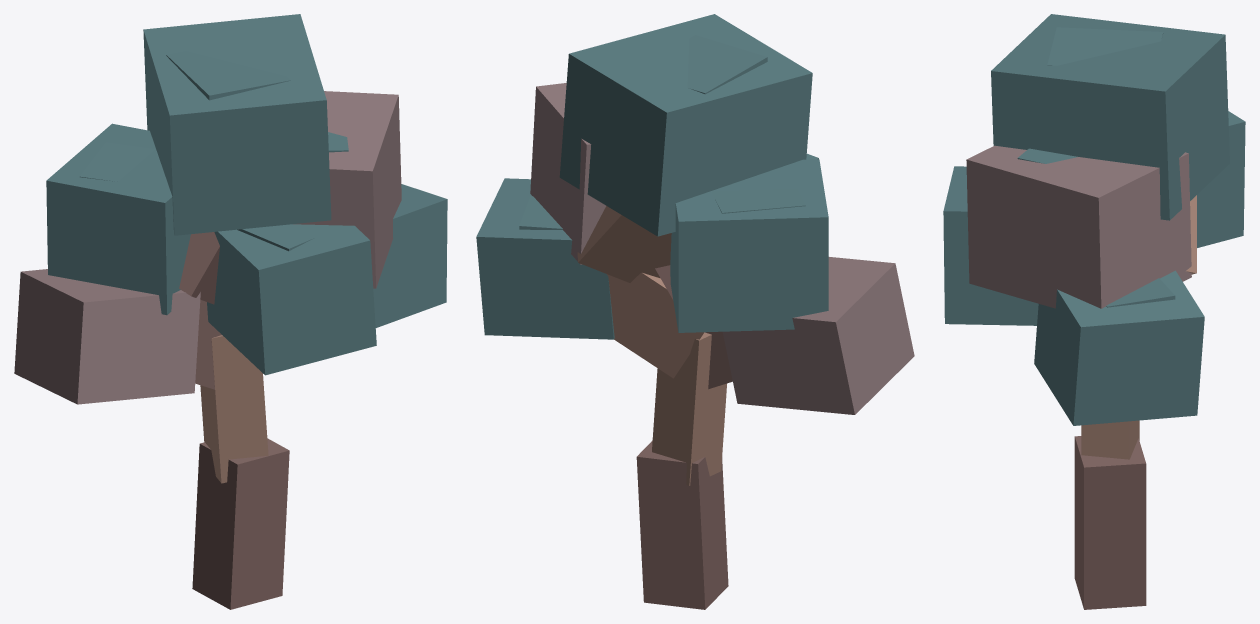
File: twilight_tree.glb
3 renders of one model, left to right at view 1: azimuth 30°, elevation 25°; view 2: azimuth 150°, elevation 25°; view 3: azimuth 270°, elevation 25°, orthographic.
Visible parts, largest first — view 1: Twilight Courier Tree; view 2: Twilight Courier Tree; view 3: Twilight Courier Tree.
Boxes of the visible parts, <box> form: Twilight Courier Tree: <box>14,14,447,609</box>; Twilight Courier Tree: <box>476,14,914,609</box>; Twilight Courier Tree: <box>943,14,1245,609</box>.
Bounding box in the file's own units: 10.25 × 13.48 × 6.74.
